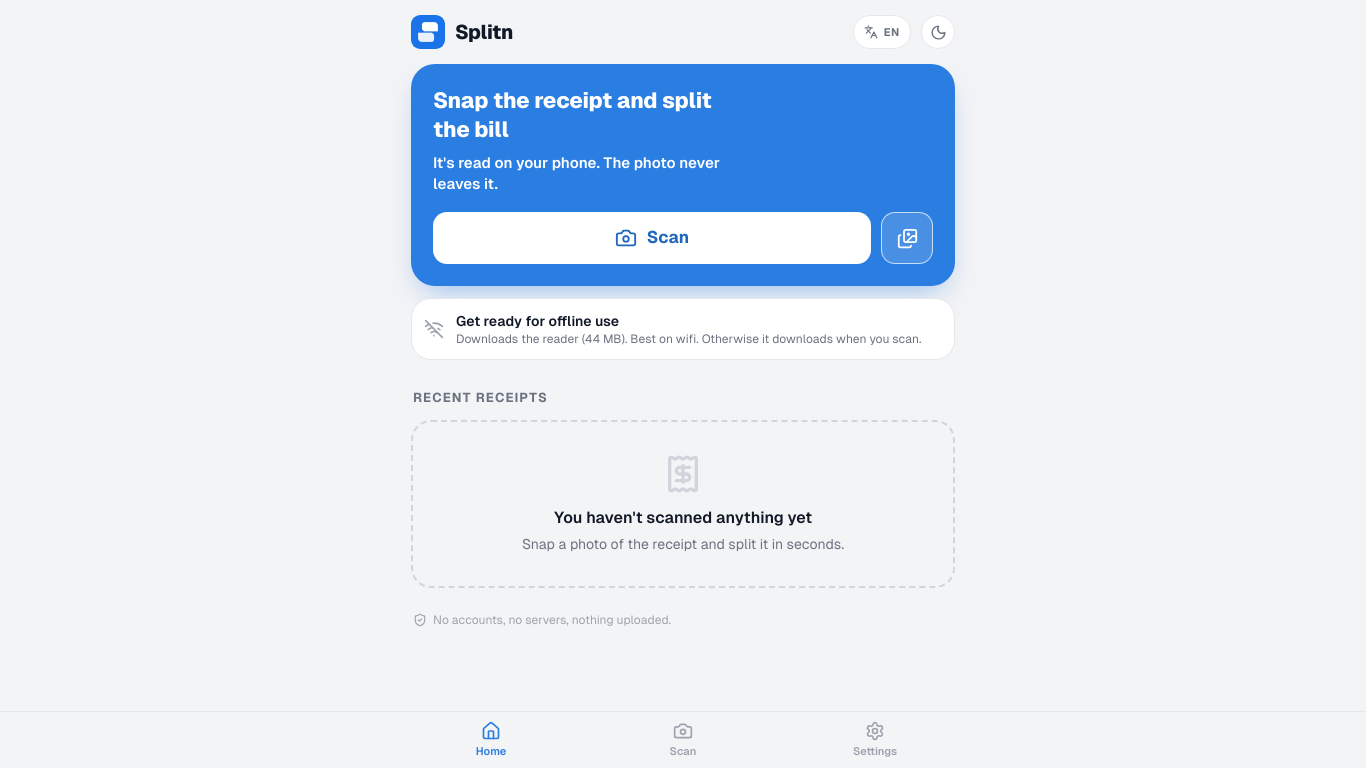
Test case: pestañas › el banco de pruebas está deshabilitado sin ningún escaneo
Step 1. Click the button "Settings" → [875, 740], box [779, 712, 971, 767]
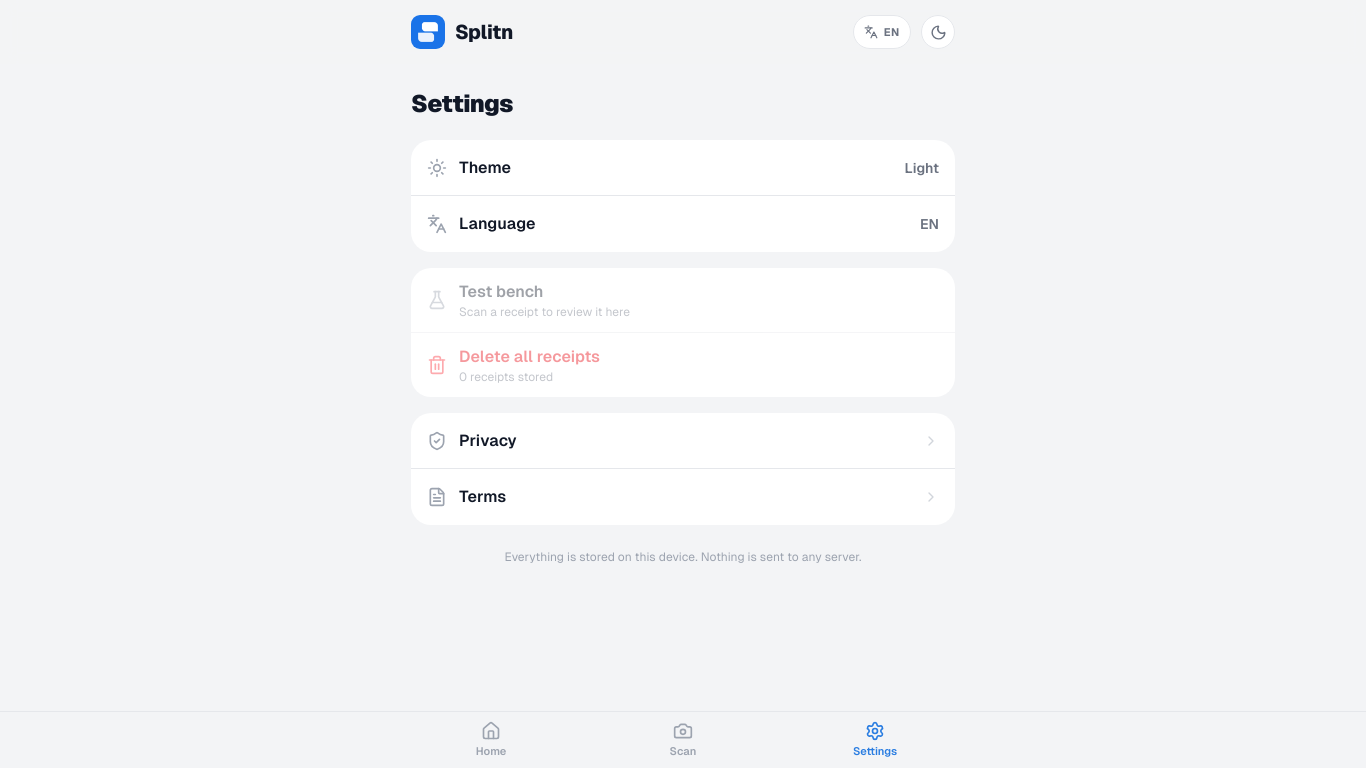
Expected: the button "Test bench Scan a receipt to review it here" is disabled, [411, 268, 955, 333]
